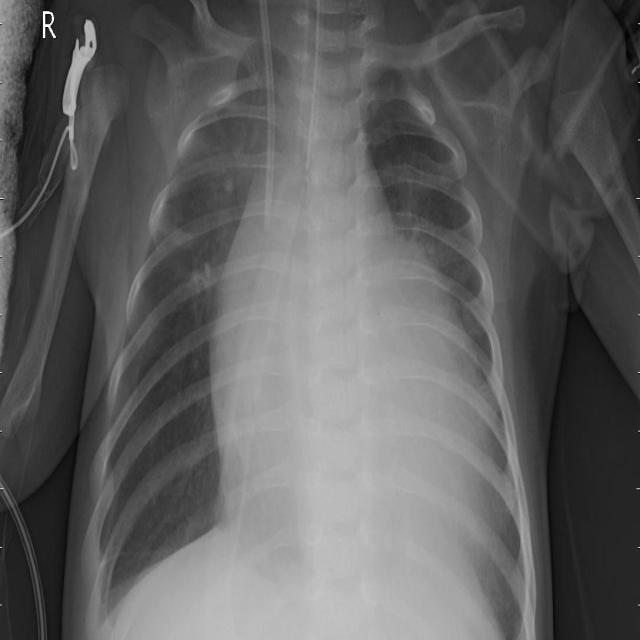low-pneumonia: (200, 144, 270, 254)
